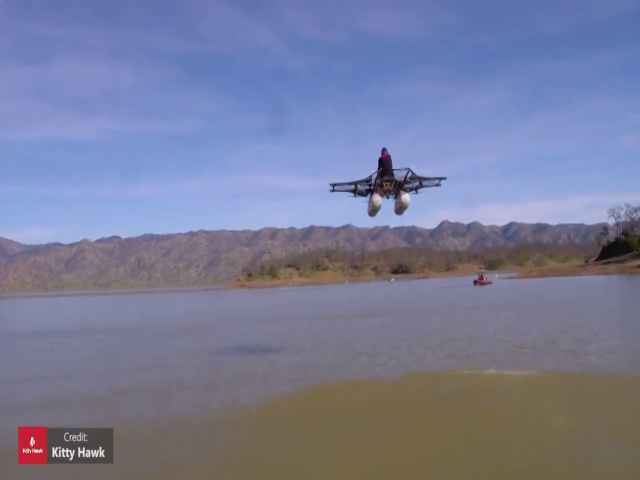drone: (327, 166, 450, 217)
